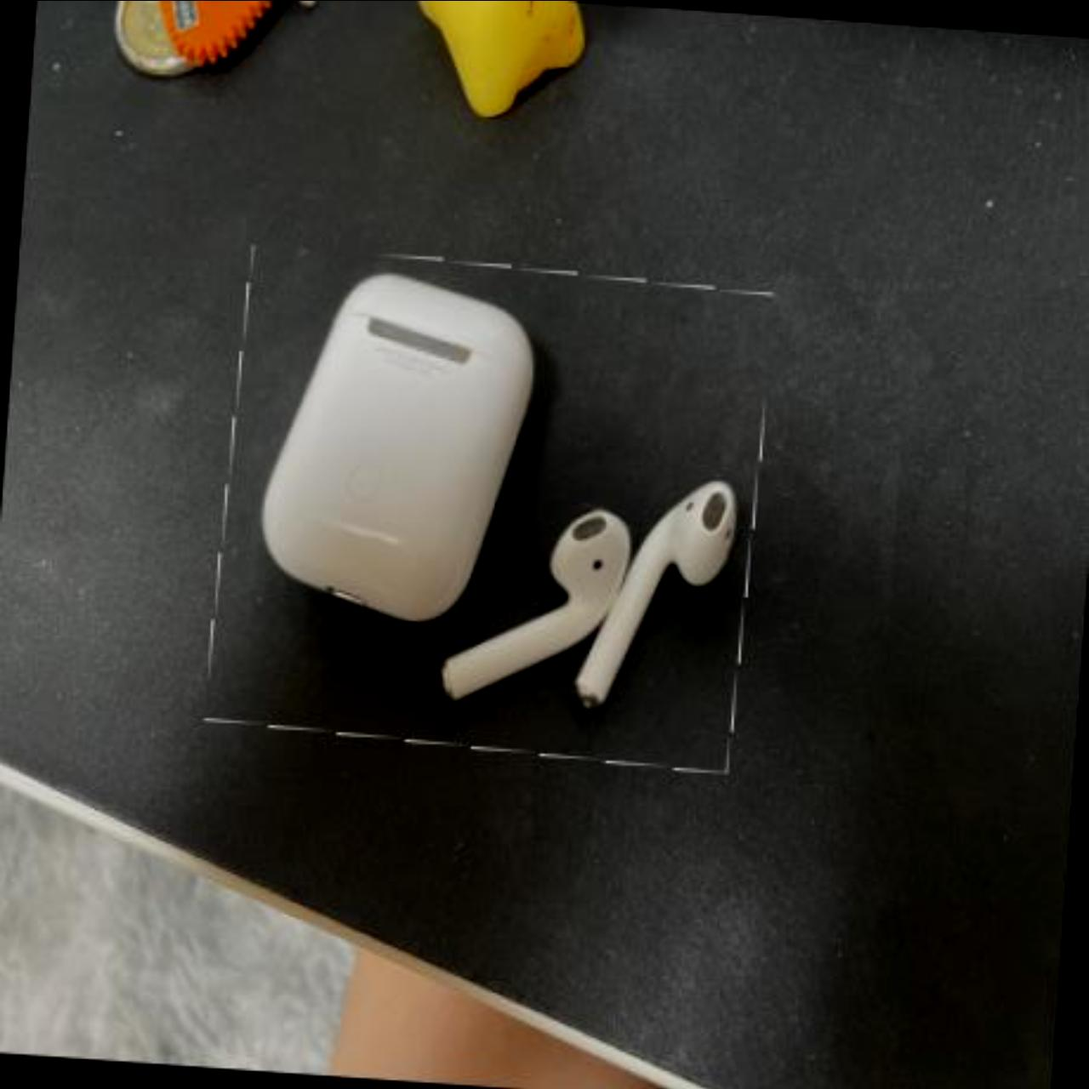AirPods: (207, 244, 773, 769)
